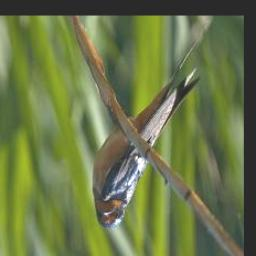Swallow: (93, 33, 204, 231)
